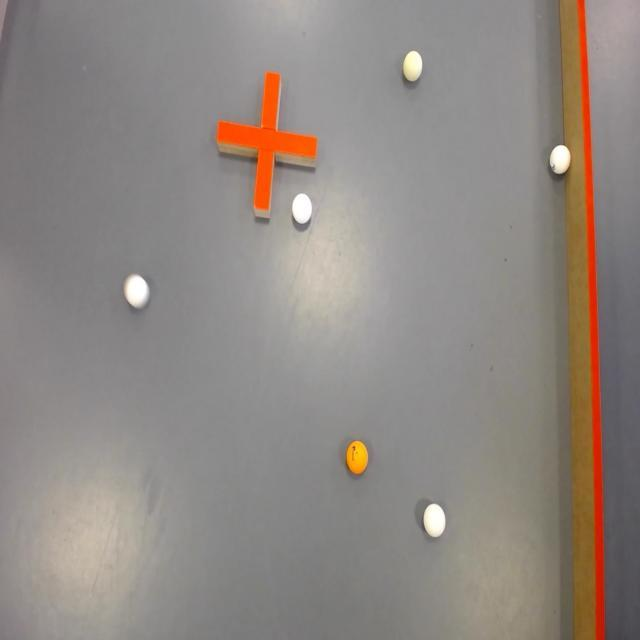orange: (346, 439, 370, 477), (346, 439, 370, 477)
white: (121, 272, 152, 312), (421, 502, 447, 540), (421, 502, 447, 540), (290, 192, 314, 232), (548, 142, 574, 178), (403, 50, 423, 82)
